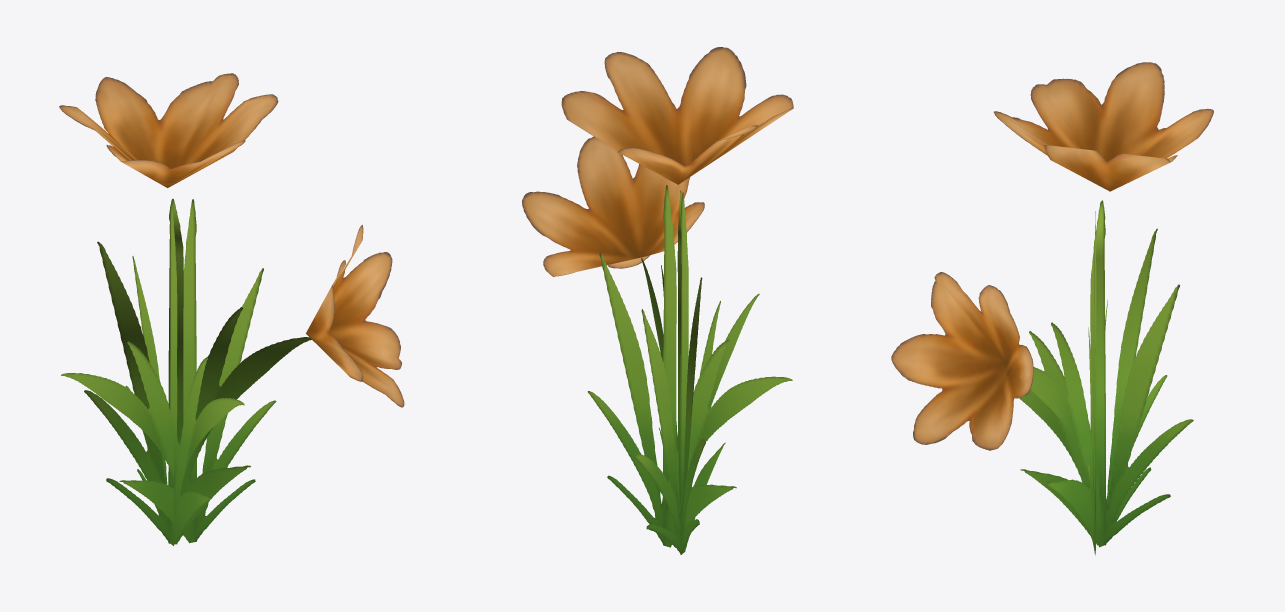
The model's file is Jungle_flower_02.fbx.
The picture shows the model from 3 angles, left to right: view 1: azimuth 30°, elevation 25°; view 2: azimuth 150°, elevation 25°; view 3: azimuth 270°, elevation 25°; orthographic projection. The views are drawn at different scales.
Parts seen in each view (by area): view 1: Jungle_flower_02; view 2: Jungle_flower_02; view 3: Jungle_flower_02.
Boxes of the visible parts, <box> form: Jungle_flower_02: <box>59,73,404,545</box>; Jungle_flower_02: <box>522,47,793,554</box>; Jungle_flower_02: <box>891,62,1213,555</box>.
Size of the model in its own units: 79.06 by 94.62 by 80.1.
